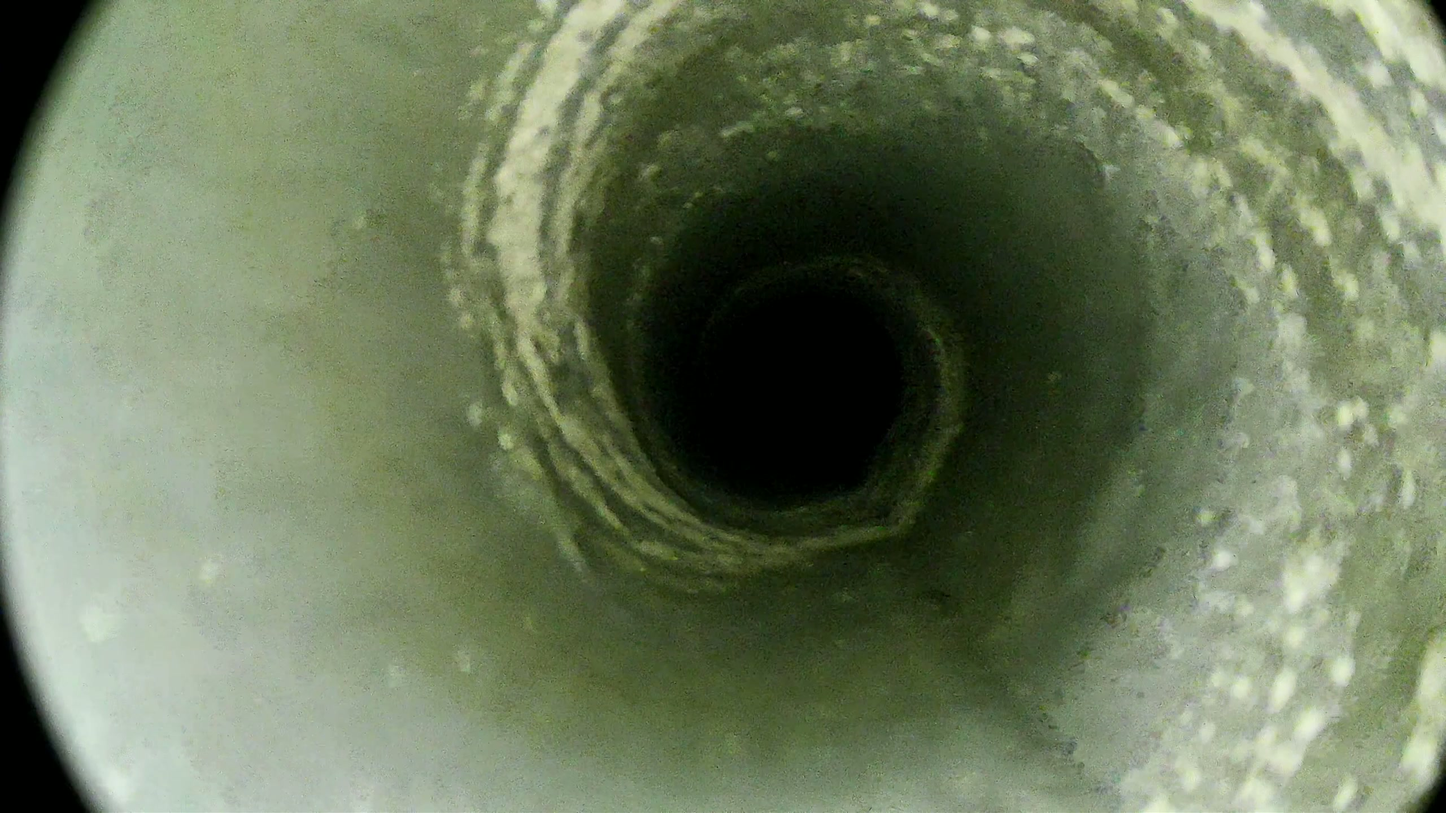hole: (713, 296, 902, 476)
